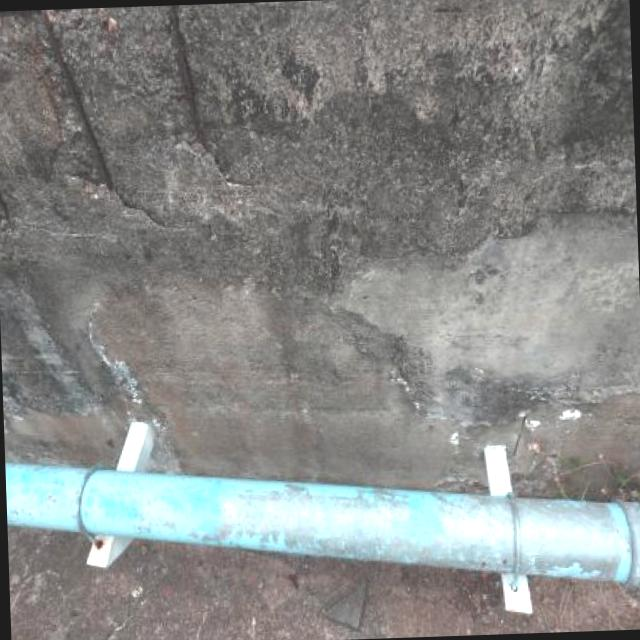gas: (6, 461, 640, 586)
